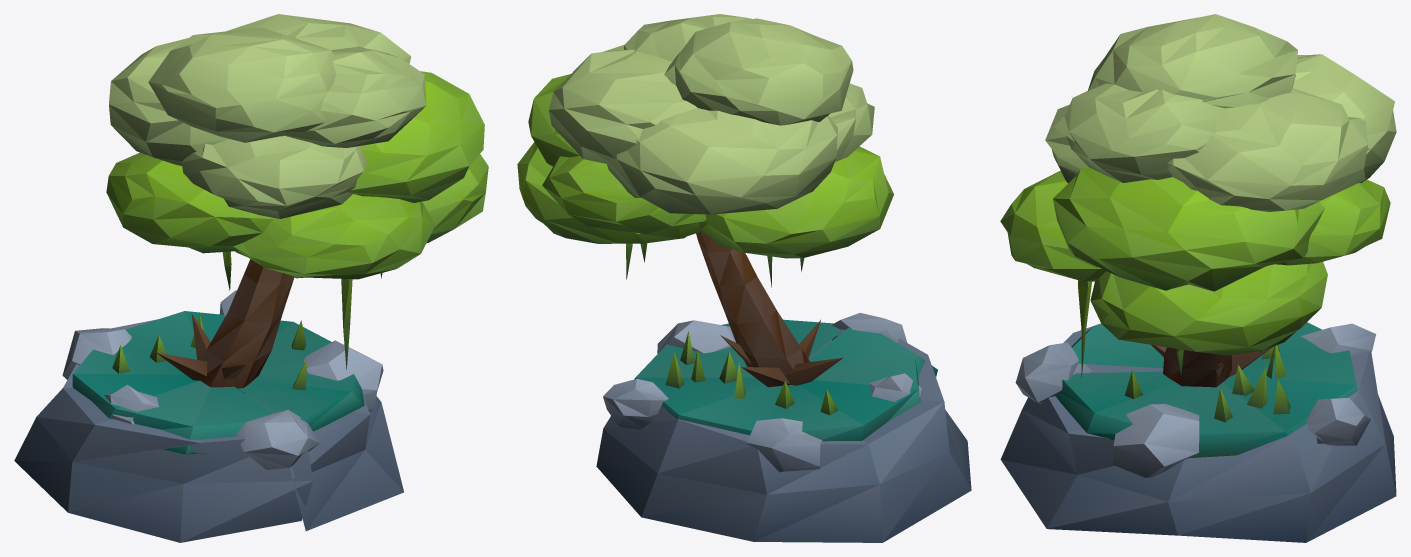
File: pohon_river_highland_538581.glb
3 views of the same model, side by side, from view 1: azimuth 30°, elevation 25°; view 2: azimuth 150°, elevation 25°; view 3: azimuth 270°, elevation 25° (orthographic). The views are drawn at different scales.
Parts seen in each view (by area): view 1: Dedaunan_Dan_Sulur, Pulau_Batu_Tepi_Sungai, Batang_Dan_Akar; view 2: Dedaunan_Dan_Sulur, Pulau_Batu_Tepi_Sungai, Batang_Dan_Akar; view 3: Dedaunan_Dan_Sulur, Pulau_Batu_Tepi_Sungai, Batang_Dan_Akar.
Boxes of the visible parts, left/top/right/bottom form: Dedaunan_Dan_Sulur: left=106, top=14, right=488, bottom=369; Pulau_Batu_Tepi_Sungai: left=14, top=290, right=403, bottom=542; Batang_Dan_Akar: left=156, top=259, right=294, bottom=393; Dedaunan_Dan_Sulur: left=517, top=14, right=893, bottom=287; Pulau_Batu_Tepi_Sungai: left=596, top=313, right=971, bottom=542; Batang_Dan_Akar: left=696, top=231, right=843, bottom=387; Dedaunan_Dan_Sulur: left=1000, top=14, right=1396, bottom=377; Pulau_Batu_Tepi_Sungai: left=1000, top=322, right=1396, bottom=542; Batang_Dan_Akar: left=1151, top=345, right=1272, bottom=387.
Bounding box in the file's own units: 7.01 × 6.59 × 5.25.
